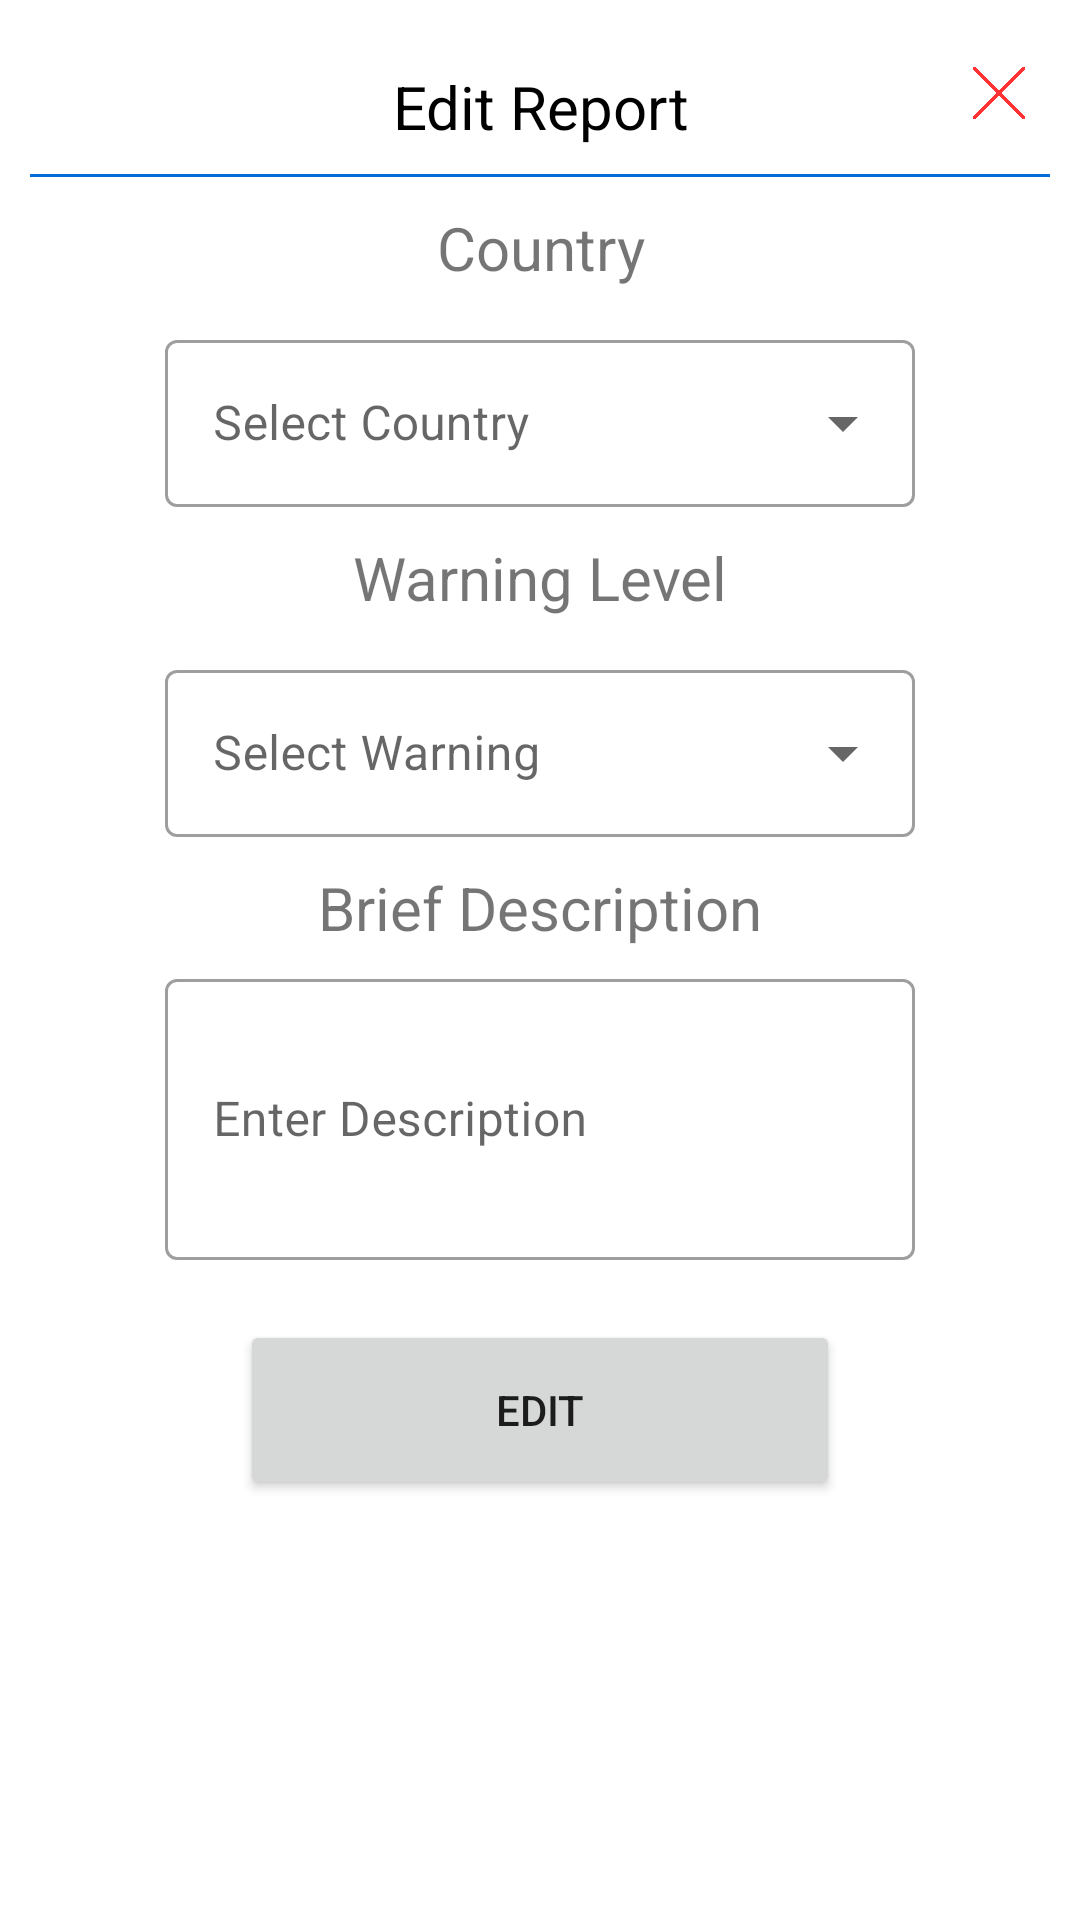

Where to tap for icons on this 1080w x 1920h app screen, as [x,y]:
cancel: [999,93]
